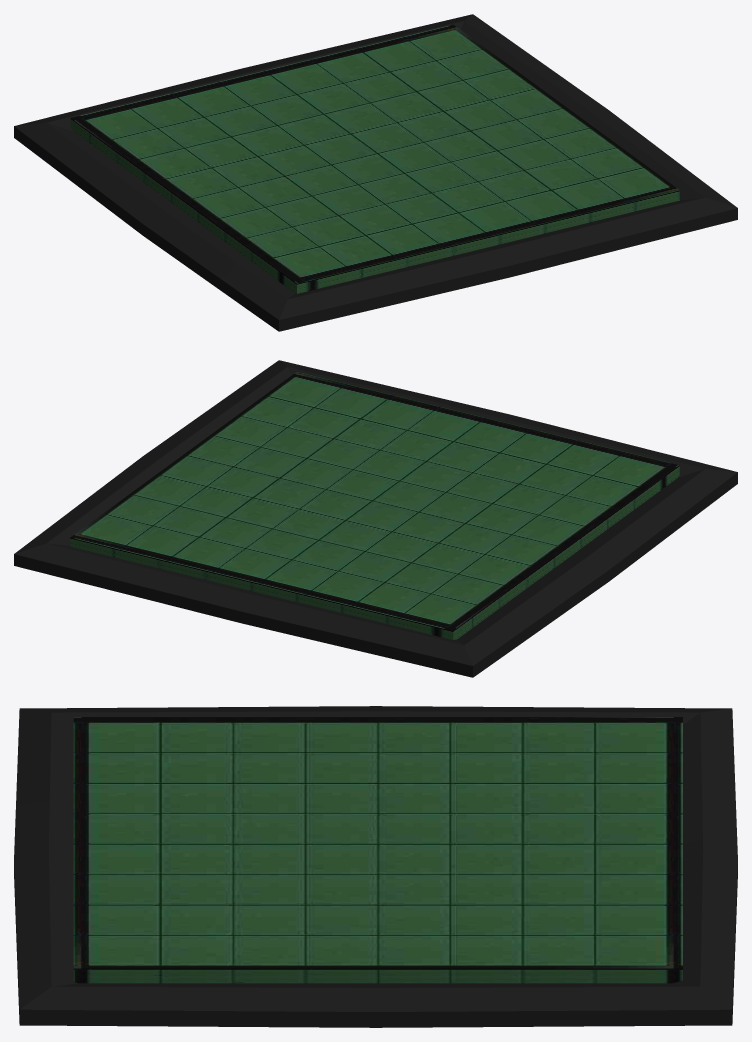
File: ÄNTLIGEN.fbx
The picture shows the model from 3 angles, top to bottom: view 1: azimuth 30°, elevation 25°; view 2: azimuth 150°, elevation 25°; view 3: azimuth 270°, elevation 25°; orthographic projection. The views are drawn at different scales.
Visible parts, largest first — view 1: Cube, Border; view 2: Cube, Border; view 3: Cube, Border.
Boxes of the visible parts, bbox=[...] form: Cube: bbox=[70, 24, 679, 293]; Border: bbox=[14, 14, 737, 331]; Cube: bbox=[70, 372, 679, 639]; Border: bbox=[14, 360, 737, 677]; Cube: bbox=[73, 717, 682, 983]; Border: bbox=[14, 706, 737, 1027].
Bounding box in the file's own units: 1040 × 101 × 1040.
